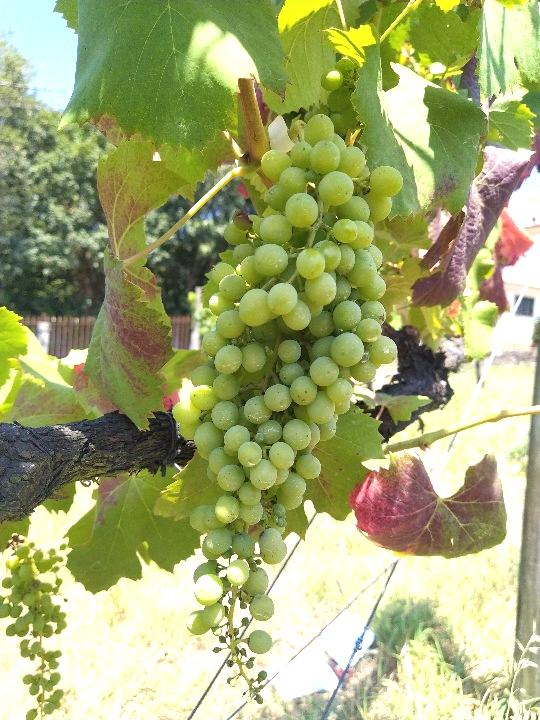grape: (172, 55, 400, 706), (3, 537, 78, 717)
